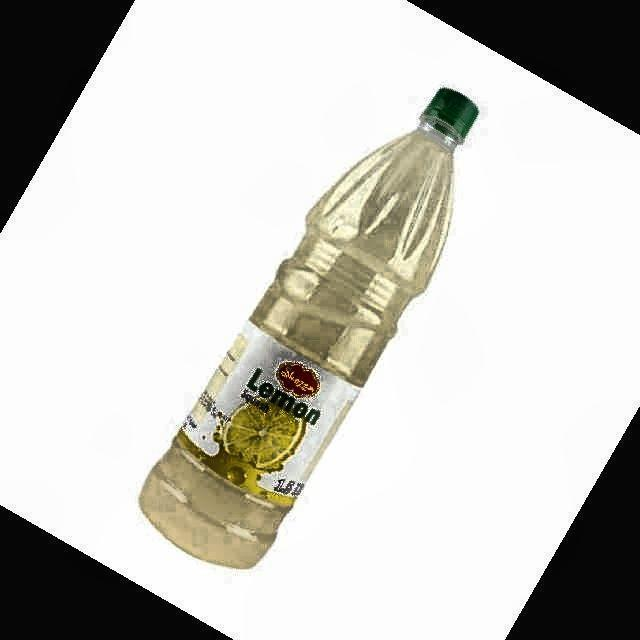plastic: (140, 89, 478, 567)
